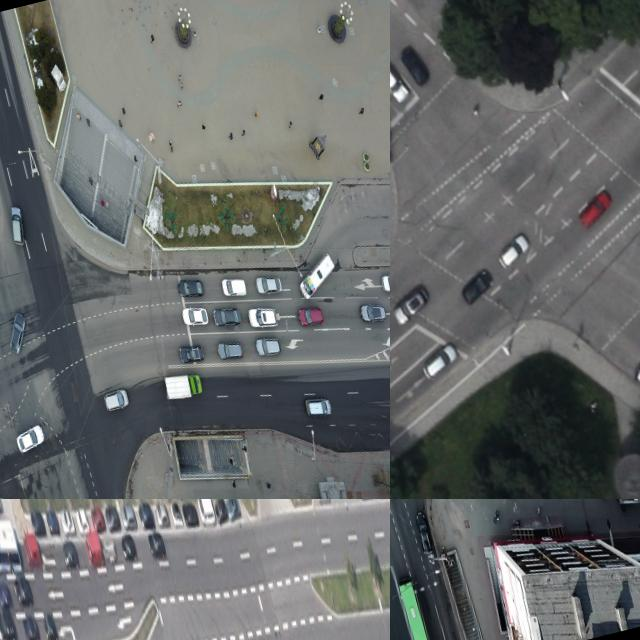UAI: (416, 341, 463, 384), (390, 283, 434, 328), (572, 188, 618, 230), (490, 230, 534, 272), (396, 40, 432, 89), (456, 267, 497, 306), (2, 310, 34, 357), (390, 53, 412, 107), (13, 423, 47, 456), (210, 301, 244, 332), (6, 204, 30, 247), (253, 270, 285, 300), (303, 392, 334, 422), (215, 335, 246, 365), (247, 303, 279, 332), (219, 272, 249, 302), (175, 272, 206, 301), (357, 298, 388, 327), (20, 531, 43, 570), (82, 531, 105, 569), (296, 302, 326, 331), (253, 333, 283, 362), (180, 301, 209, 330), (414, 510, 432, 555), (102, 386, 131, 413), (178, 341, 206, 368), (12, 575, 34, 608), (146, 528, 167, 561), (0, 604, 19, 640), (60, 539, 80, 570), (135, 499, 155, 530), (20, 611, 41, 640), (119, 532, 138, 563), (118, 500, 137, 531), (103, 503, 122, 534), (88, 502, 106, 534), (195, 499, 216, 526), (181, 500, 200, 528), (58, 506, 76, 535), (73, 505, 90, 535), (44, 507, 61, 537), (29, 508, 46, 536), (168, 499, 183, 529), (42, 614, 59, 640), (102, 537, 118, 564), (154, 503, 170, 527), (224, 499, 242, 520), (0, 580, 12, 610), (213, 499, 228, 523), (632, 360, 640, 404), (378, 269, 390, 298)
UAP: (161, 367, 205, 404)
car: (395, 574, 439, 640), (0, 507, 24, 580)
harvester: (293, 251, 341, 299)
